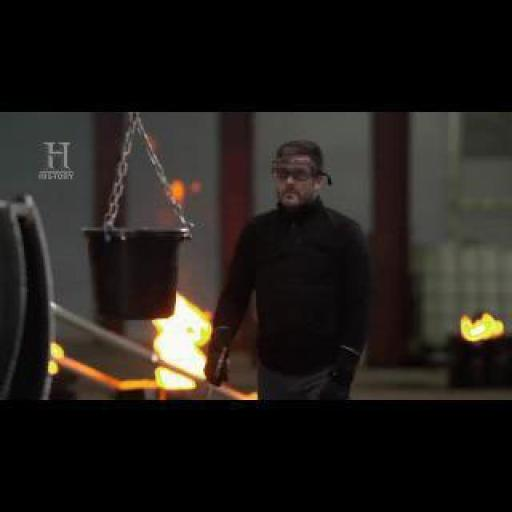smoke: (149, 288, 214, 389), (458, 309, 504, 341)
